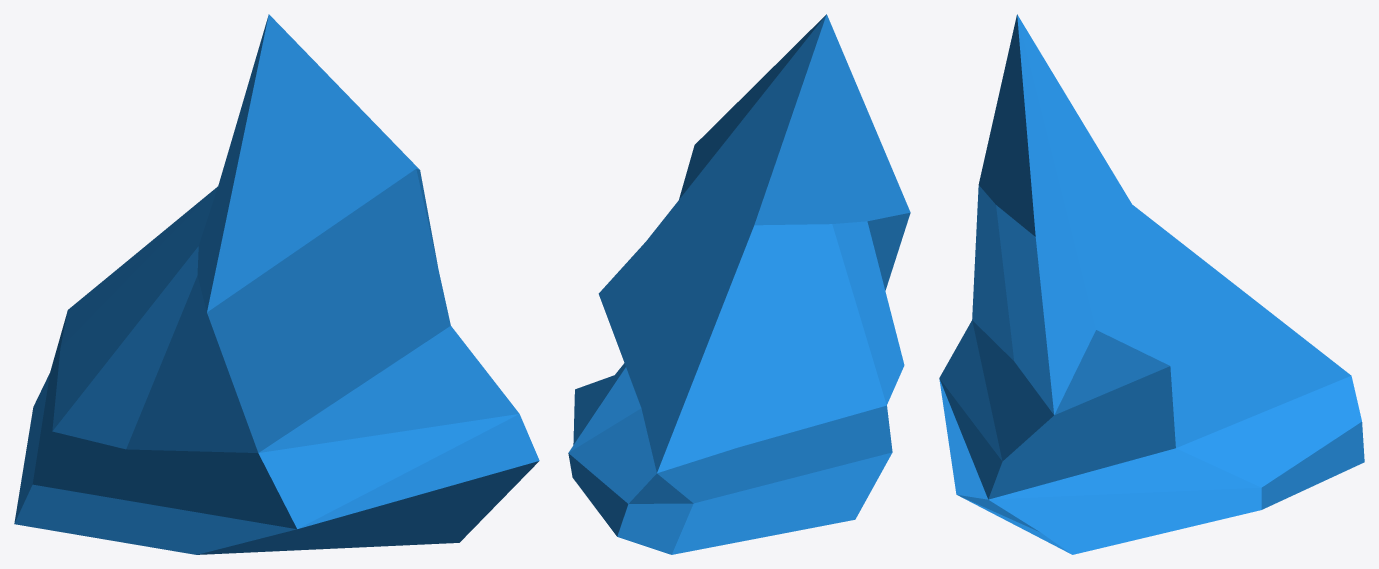
Rendered from montagne-5.fbx.
3 renders of one model, left to right at view 1: azimuth 30°, elevation 25°; view 2: azimuth 150°, elevation 25°; view 3: azimuth 270°, elevation 25°, orthographic. The views are drawn at different scales.
Parts seen in each view (by area): view 1: montagne; view 2: montagne; view 3: montagne.
Boxes of the visible parts, left/top/right/bottom form: montagne: left=14, top=14, right=539, bottom=554; montagne: left=568, top=14, right=910, bottom=554; montagne: left=939, top=14, right=1364, bottom=554.
Bounding box in the file's own units: 7332 × 8497 × 7484.
